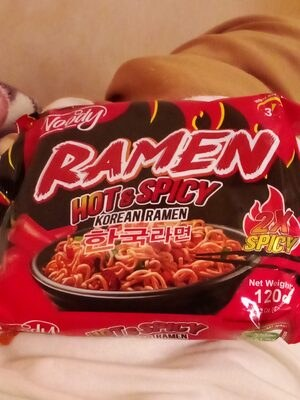Ramen: (15, 20, 285, 380)
